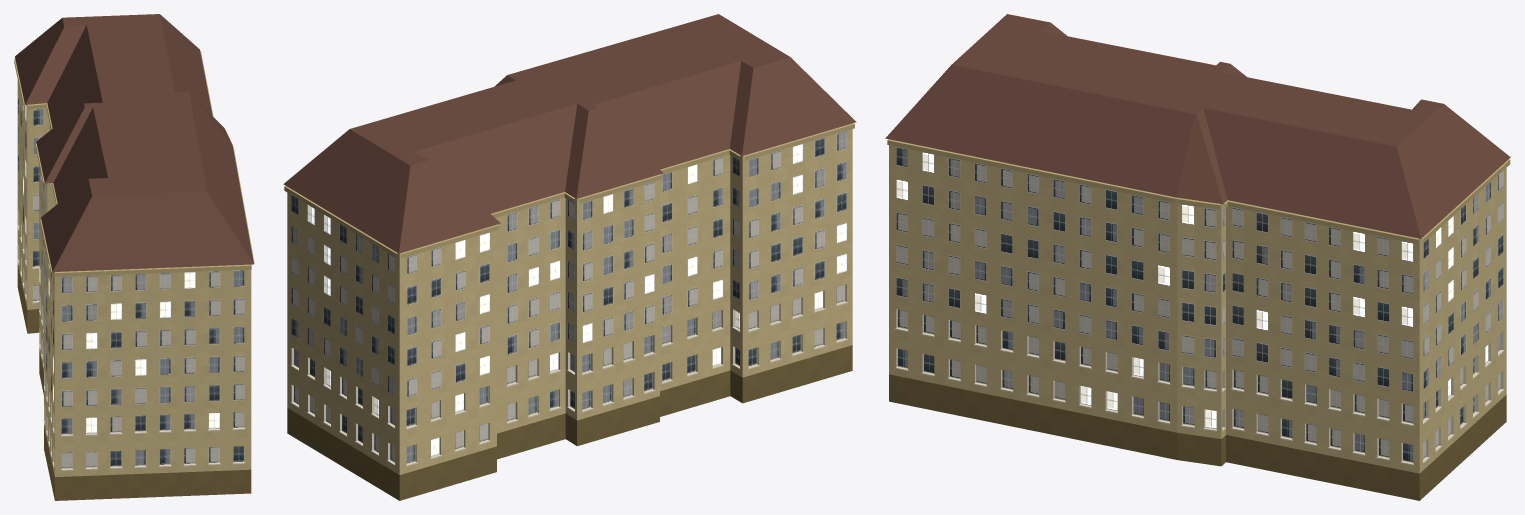
File: sh_feld.glb
3 renders of one model, left to right at view 1: azimuth 30°, elevation 25°; view 2: azimuth 150°, elevation 25°; view 3: azimuth 270°, elevation 25°, orthographic. The views are drawn at different scales.
Parts seen in each view (by area): view 1: sh_feld; view 2: sh_feld; view 3: sh_feld.
Part boxes in pixels (x1=…): sh_feld: x1=14, y1=14, x2=254, y2=500; sh_feld: x1=283, y1=14, x2=856, y2=500; sh_feld: x1=885, y1=14, x2=1510, y2=500.
Bounding box in the file's own units: 44.6 × 35.96 × 62.25.
3 materials, 3 textured.
